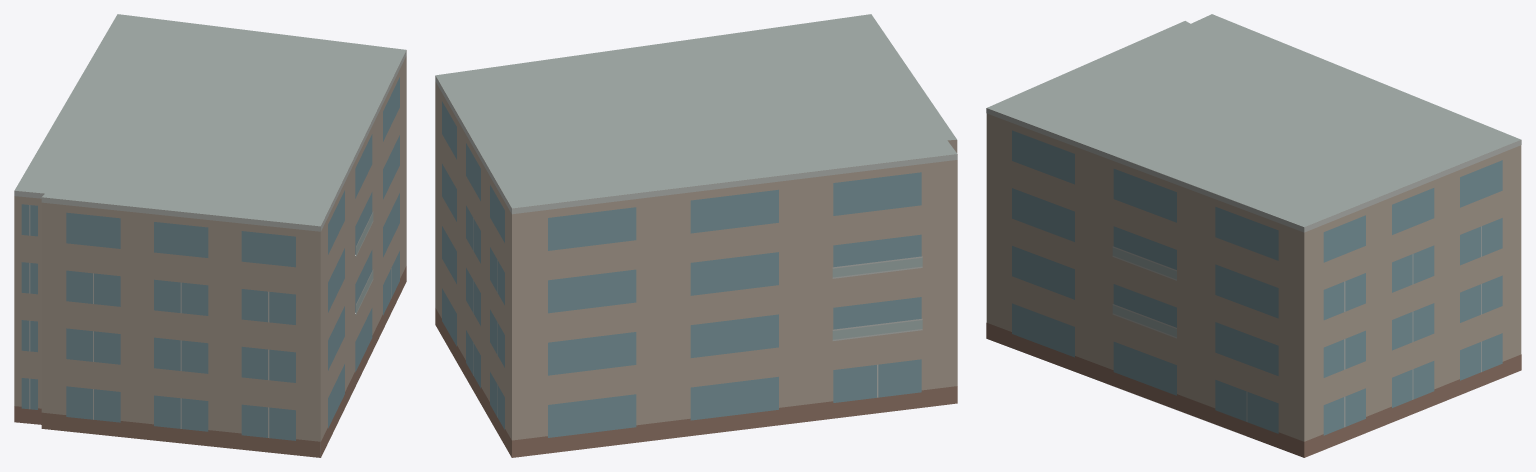
File: survey-upis-32776640.glb
The picture shows the model from 3 angles, left to right: view 1: azimuth 30°, elevation 25°; view 2: azimuth 150°, elevation 25°; view 3: azimuth 270°, elevation 25°; orthographic projection. The views are drawn at different scales.
Visible parts, largest first — view 1: survey-upis-32776640.tmp; view 2: survey-upis-32776640.tmp; view 3: survey-upis-32776640.tmp.
Boxes of the visible parts, left/top/right/bottom form: survey-upis-32776640.tmp: left=14, top=14, right=406, bottom=457; survey-upis-32776640.tmp: left=435, top=14, right=957, bottom=457; survey-upis-32776640.tmp: left=986, top=14, right=1521, bottom=457.
Size of the model in its own units: 20.92 by 10.55 by 22.18.
